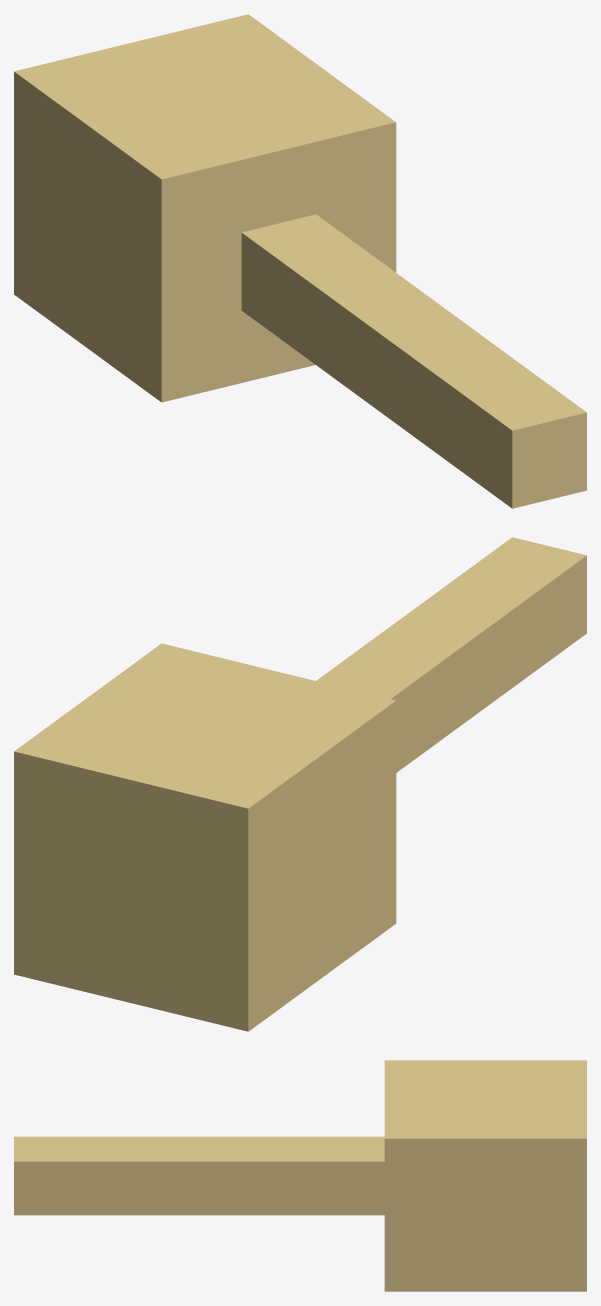
Rendered from titan_cannon_autocannon.fbx.
3 renders of one model, top to bottom at view 1: azimuth 30°, elevation 25°; view 2: azimuth 150°, elevation 25°; view 3: azimuth 270°, elevation 25°, orthographic. The views are drawn at different scales.
Visible parts, largest first — view 1: Autocannon_Housing, Autocannon_Barrel; view 2: Autocannon_Housing, Autocannon_Barrel; view 3: Autocannon_Housing, Autocannon_Barrel.
Part boxes in pixels (x1,y1,x2,y2): Autocannon_Housing: [14, 14, 396, 402]; Autocannon_Barrel: [241, 214, 586, 508]; Autocannon_Housing: [14, 643, 396, 1031]; Autocannon_Barrel: [316, 537, 586, 772]; Autocannon_Housing: [384, 1060, 586, 1291]; Autocannon_Barrel: [14, 1136, 384, 1215].
Bounding box in the file's own units: 220 × 200 × 680.
